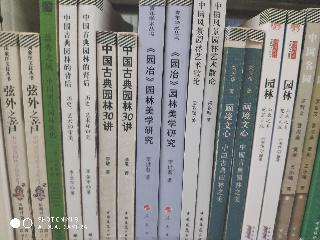book-spine: (270, 9, 320, 240), (255, 12, 305, 240), (238, 10, 286, 240), (206, 28, 247, 240), (224, 30, 265, 240), (155, 2, 191, 239), (192, 1, 226, 239), (177, 1, 209, 240), (133, 1, 165, 239), (19, 34, 51, 240), (0, 33, 31, 240), (285, 57, 320, 240), (40, 3, 66, 239), (60, 1, 82, 239), (79, 2, 98, 239), (116, 35, 135, 238), (99, 33, 115, 239)
